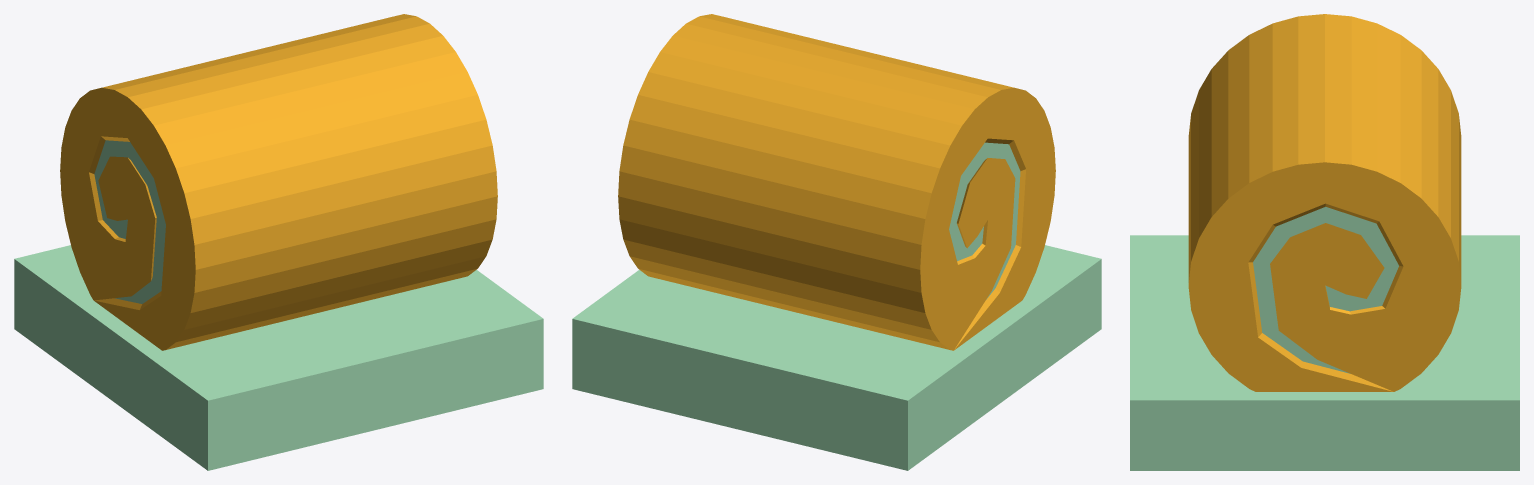
The model's file is HayBale.fbx.
3 renders of one model, left to right at view 1: azimuth 30°, elevation 25°; view 2: azimuth 150°, elevation 25°; view 3: azimuth 270°, elevation 25°, orthographic.
Parts seen in each view (by area): view 1: HayBale; view 2: HayBale; view 3: HayBale.
Part boxes in pixels (x1,y1,x2,y2): HayBale: (14,14,543,470); HayBale: (572,14,1101,470); HayBale: (1130,14,1519,470).
Bounding box in the file's own units: 200 × 170 × 200.
